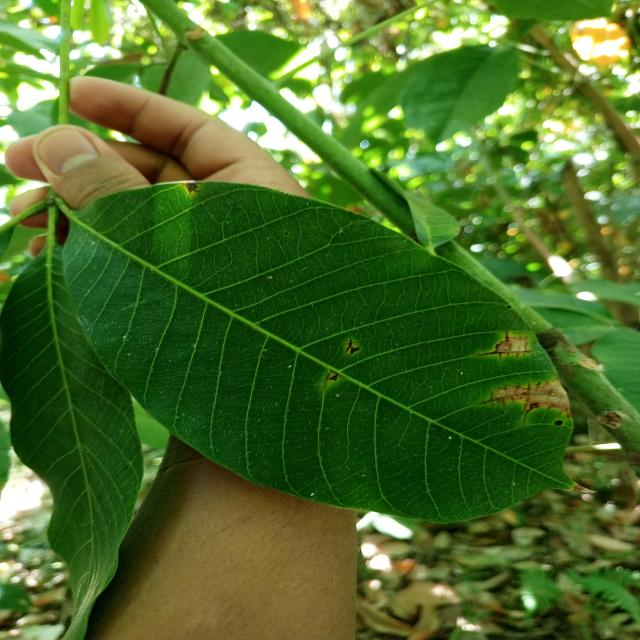Colletotrichum: (554, 420, 563, 426)
Corynespora: (474, 344, 532, 360), (523, 402, 540, 426), (478, 392, 506, 406), (324, 370, 342, 388), (345, 337, 360, 355), (500, 331, 510, 344)
Leaf-Blight: (493, 380, 572, 417), (498, 337, 527, 352)
